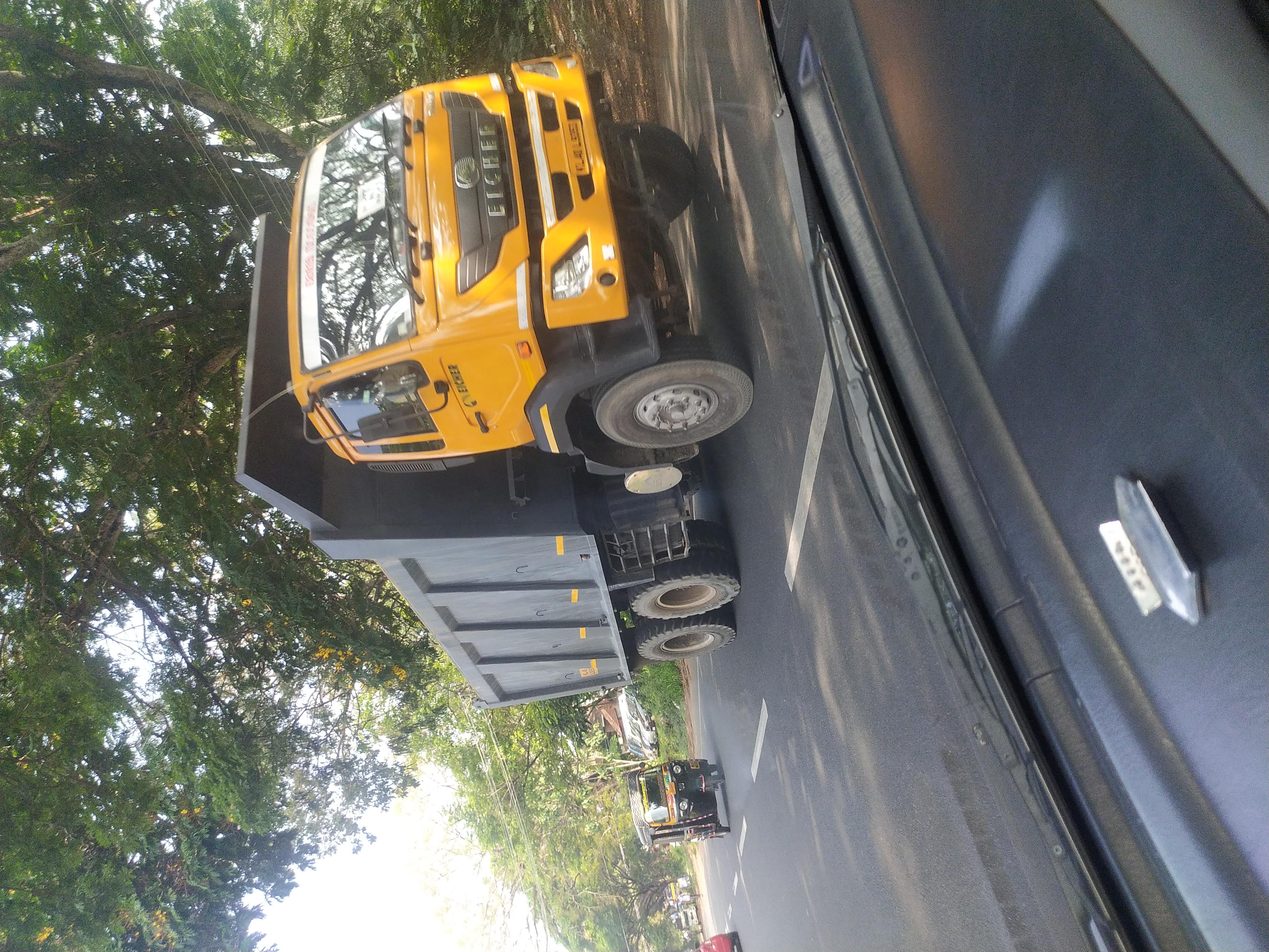license plate: (1035, 422, 1109, 442)
